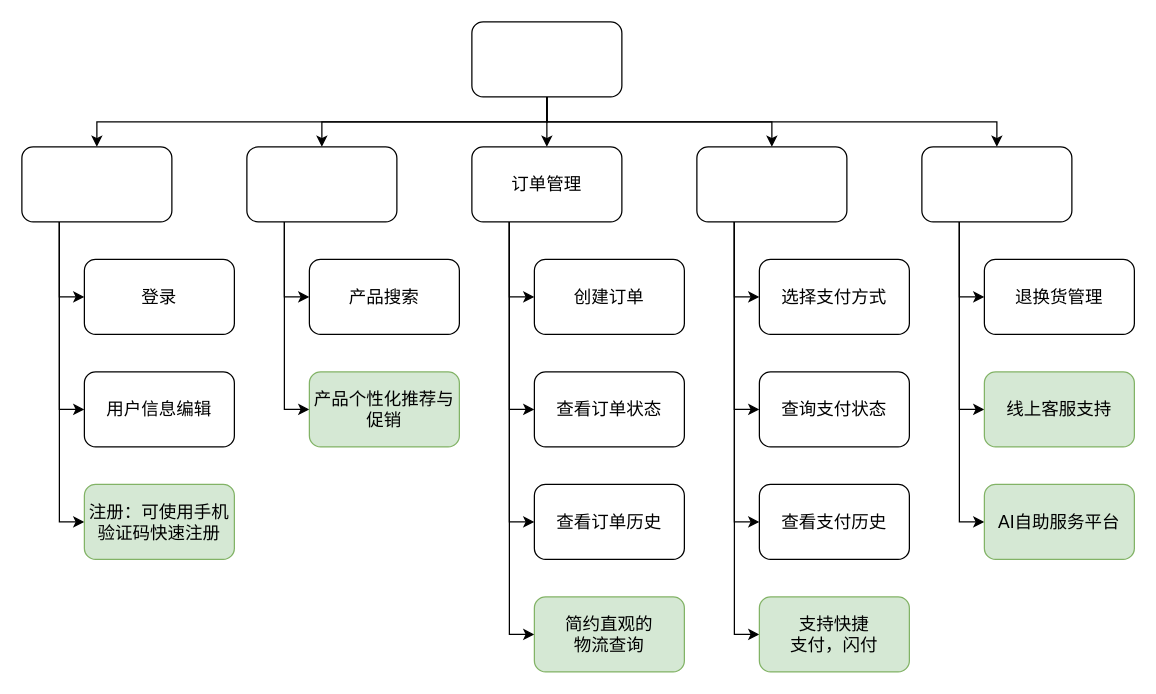
Some shapes in this 1156 by 694 pixel diagram are drawn without their labels. The shapes that lost their labels are listed below. From the top down, each one's centre as x and y in pixels, then its label:
pixel 546 59: 零散客户
pixel 96 184: 用户管理
pixel 321 184: 产品管理
pixel 771 184: 支付管理
pixel 996 184: 售后服务
